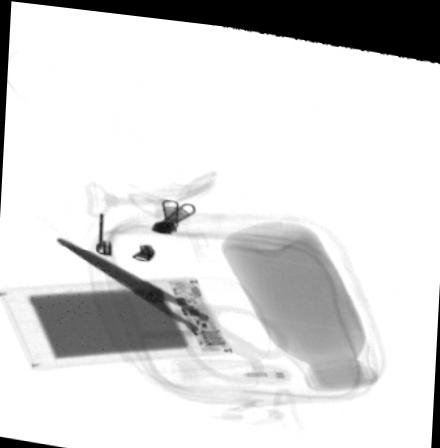Powerbank: (0, 269, 238, 372)
Scissors: (49, 228, 290, 385)
